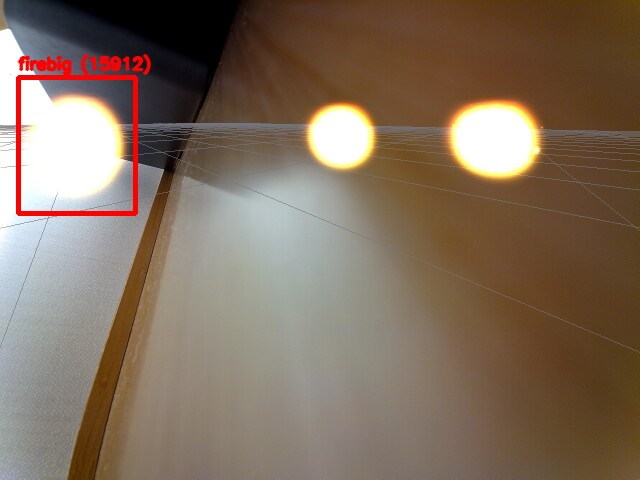firebig: (18, 77, 135, 213)
